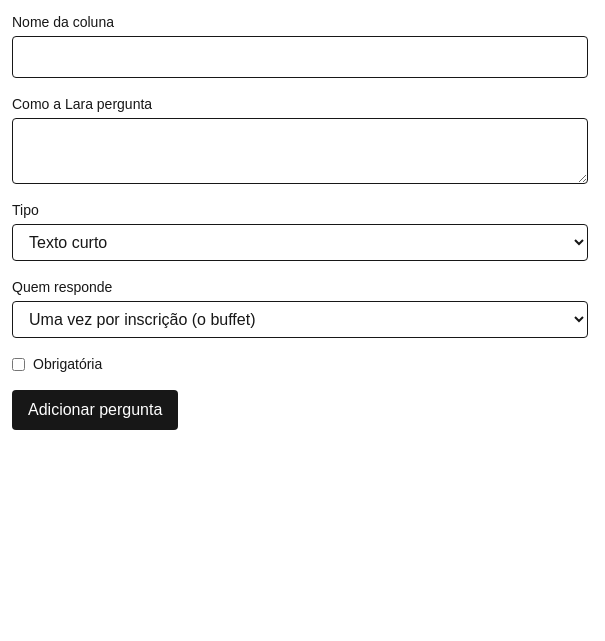
it: FormularioPergunta › mostra o campo de opcoes ao escolher uma selecao
Select "Escolha uma" in the dropdown labelled "Tipo": (300, 242) 12,224 -> 588,261
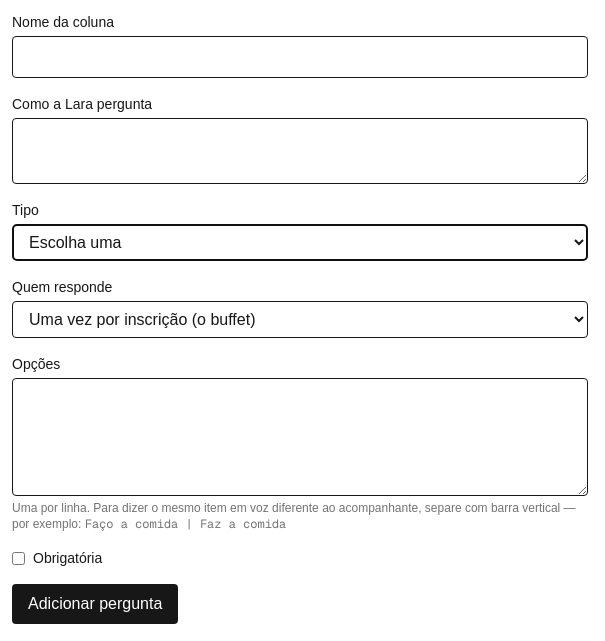
Expected: the text box labelled "Opções" is shown, 12,378 -> 588,496
